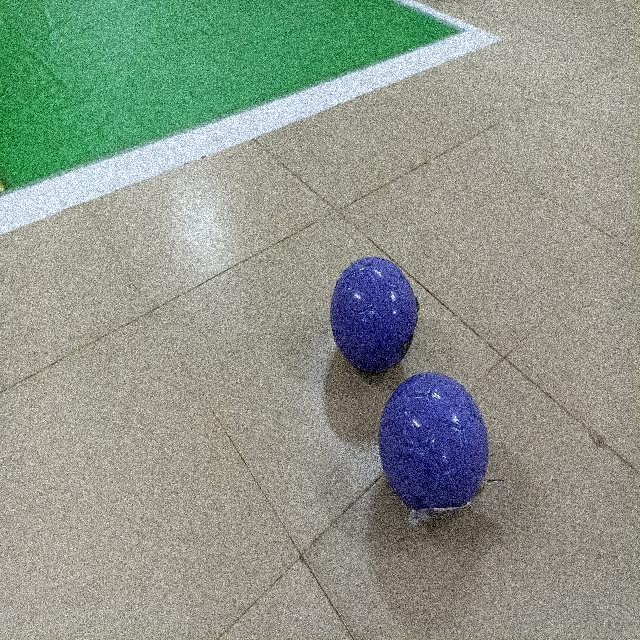purple_ball: (374, 370, 494, 532), (324, 251, 422, 381)
